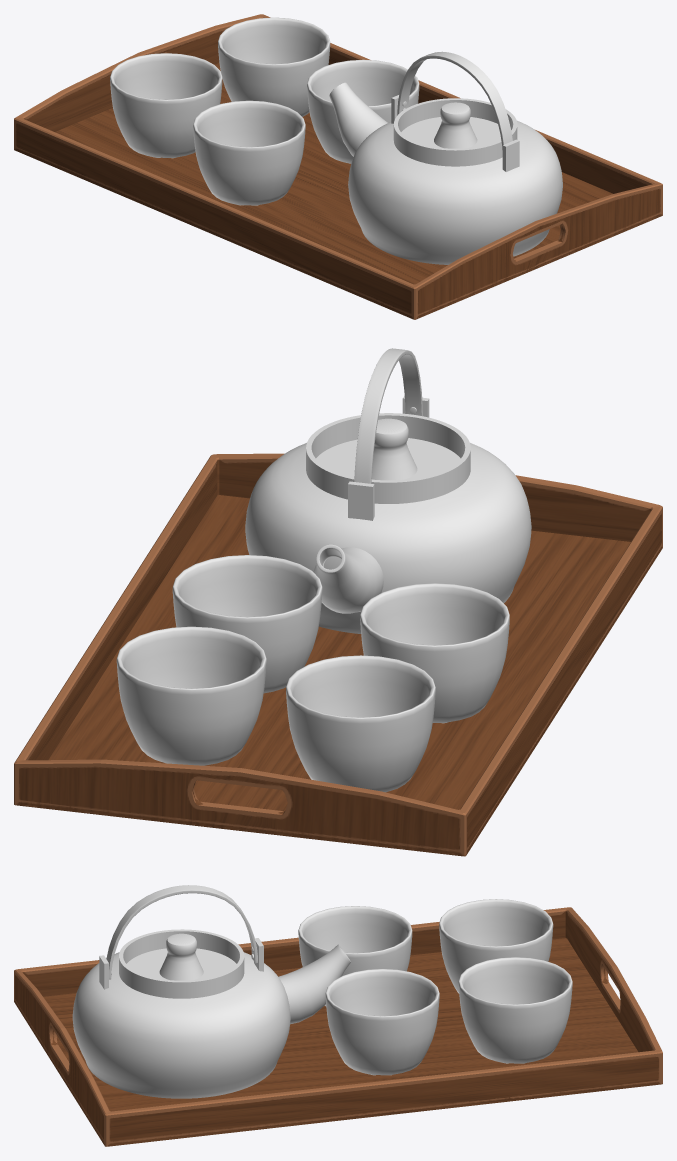
The model's file is M_Furniture_008.fbx.
3 views of the same model, one above another, from view 1: azimuth 30°, elevation 25°; view 2: azimuth 150°, elevation 25°; view 3: azimuth 270°, elevation 25° (orthographic). The views are drawn at different scales.
Parts seen in each view (by area): view 1: M_Furniture_008, M_Ceramic, M_Ceramic.001, M_Ceramic.003, M_Ceramic.004, M_Ceramic.002; view 2: M_Furniture_008, M_Ceramic, M_Ceramic.004, M_Ceramic.003, M_Ceramic.001, M_Ceramic.002; view 3: M_Furniture_008, M_Ceramic, M_Ceramic.004, M_Ceramic.002, M_Ceramic.003, M_Ceramic.001.
Boxes of the visible parts, left/top/right/bottom form: M_Furniture_008: left=14, top=14, right=662, bottom=319; M_Ceramic: left=329, top=51, right=562, bottom=264; M_Ceramic.001: left=193, top=100, right=305, bottom=205; M_Ceramic.003: left=110, top=53, right=222, bottom=158; M_Ceramic.004: left=218, top=17, right=330, bottom=116; M_Ceramic.002: left=307, top=59, right=419, bottom=163; M_Furniture_008: left=14, top=453, right=662, bottom=856; M_Ceramic: left=245, top=348, right=531, bottom=633; M_Ceramic.004: left=116, top=626, right=266, bottom=765; M_Ceramic.003: left=286, top=655, right=435, bottom=792; M_Ceramic.001: left=360, top=583, right=509, bottom=723; M_Ceramic.002: left=172, top=555, right=322, bottom=693; M_Furniture_008: left=14, top=907, right=662, bottom=1146; M_Ceramic: left=72, top=885, right=350, bottom=1098; M_Ceramic.004: left=458, top=957, right=572, bottom=1063; M_Ceramic.002: left=325, top=969, right=439, bottom=1075; M_Ceramic.003: left=439, top=899, right=553, bottom=993; M_Ceramic.001: left=298, top=906, right=412, bottom=1006.
Size of the model in its own units: 63.29 by 24.73 by 83.43.
Materials: 2 (1 with a texture image).
